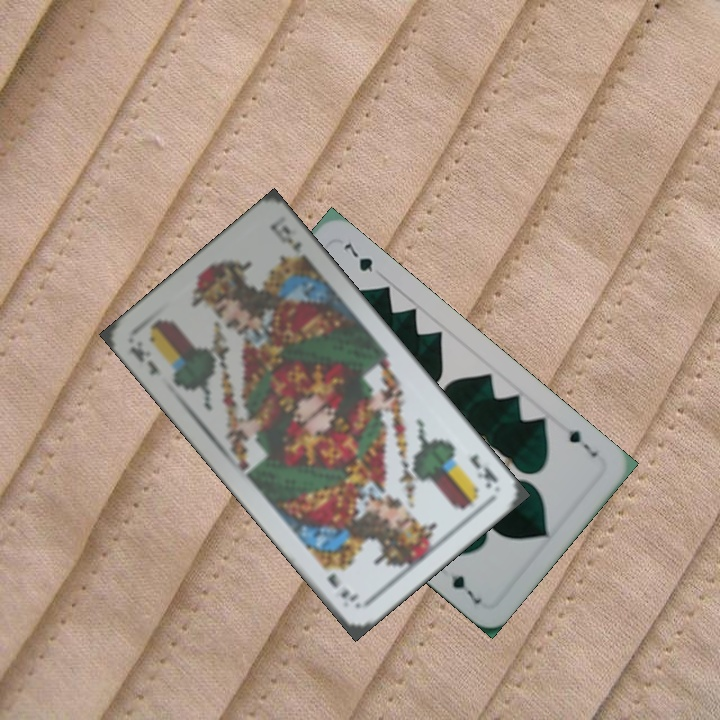EK: (465, 449, 501, 491), (125, 342, 164, 379)
G7: (560, 421, 601, 460)
